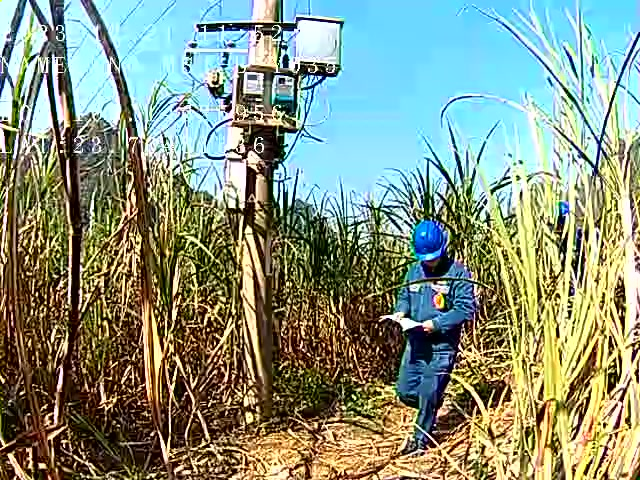downsuit: (395, 335, 459, 436)
halt: (413, 221, 450, 268)
hand: (422, 318, 434, 332)
person: (393, 219, 479, 447)
upsuit: (399, 263, 475, 330)
